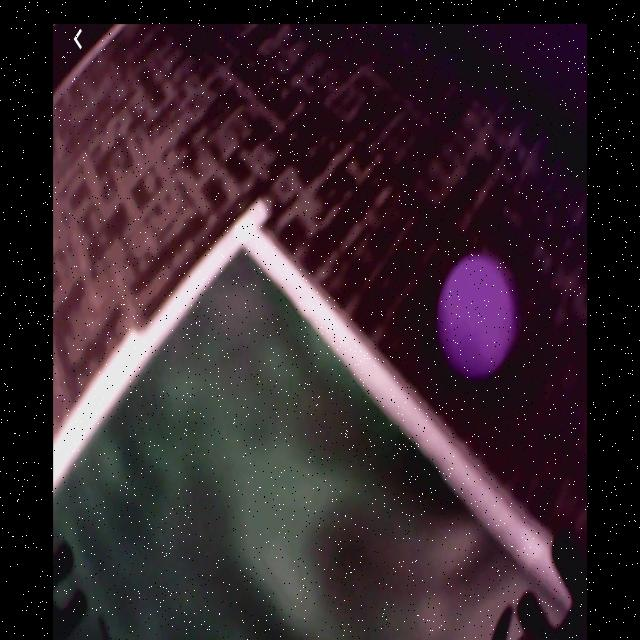ball: (438, 255, 514, 380)
